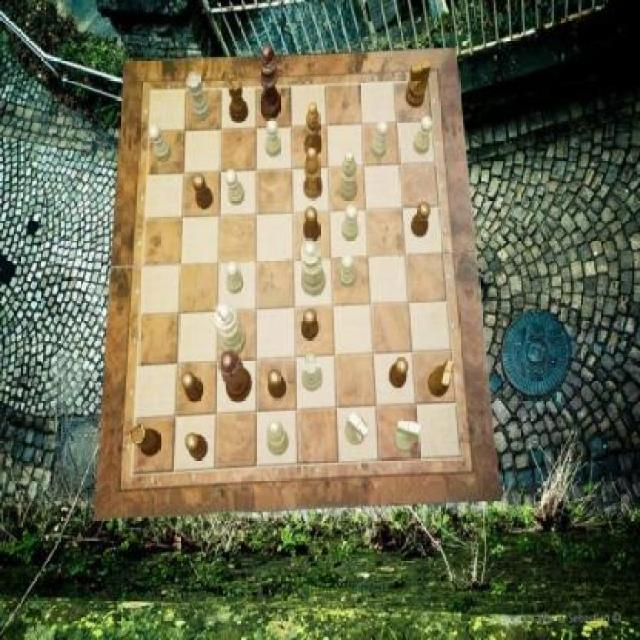bishop: (304, 148, 324, 200), (305, 102, 322, 156)
black-bishop: (258, 43, 281, 121)
black-king: (406, 60, 432, 108), (428, 359, 454, 396)
black-knight: (192, 174, 213, 210), (411, 202, 431, 238), (181, 371, 204, 402), (185, 434, 208, 461), (389, 357, 409, 388), (268, 369, 287, 400), (303, 208, 320, 242), (302, 308, 319, 340)
black-pawn: (220, 349, 254, 403)
black-queen: (130, 423, 162, 457), (228, 77, 248, 123)
black-rook: (338, 151, 358, 200), (266, 422, 289, 456)
white-bishop: (214, 302, 247, 358)
white-king: (394, 418, 421, 452), (344, 410, 368, 444)
white-knight: (150, 125, 172, 162), (414, 115, 433, 154), (226, 170, 246, 206), (371, 120, 388, 158), (343, 204, 360, 240), (264, 120, 280, 158), (340, 252, 357, 287), (228, 262, 245, 296)
white-pawn: (300, 239, 326, 296)
white-queen: (186, 72, 211, 120), (302, 354, 322, 391)
